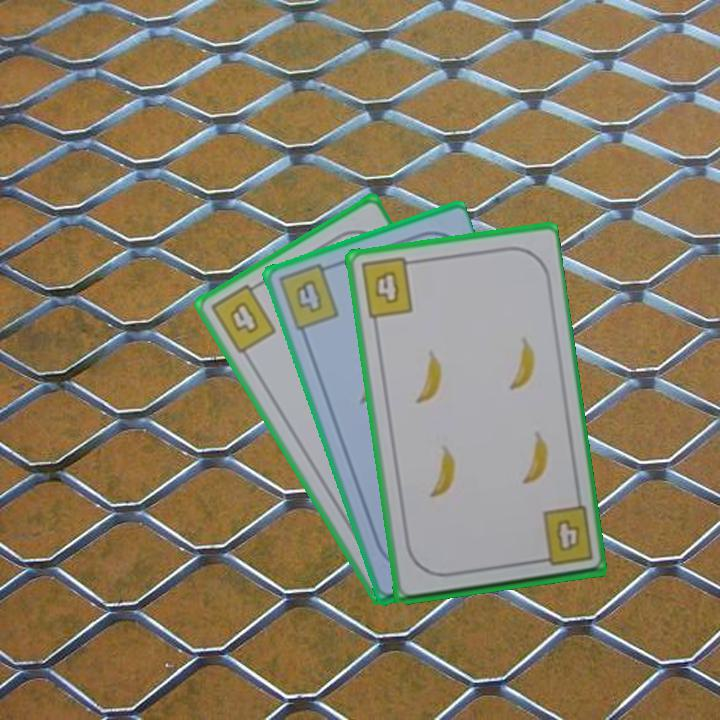4b: (206, 277, 279, 357), (274, 260, 342, 333), (530, 503, 595, 569), (357, 254, 419, 321)
